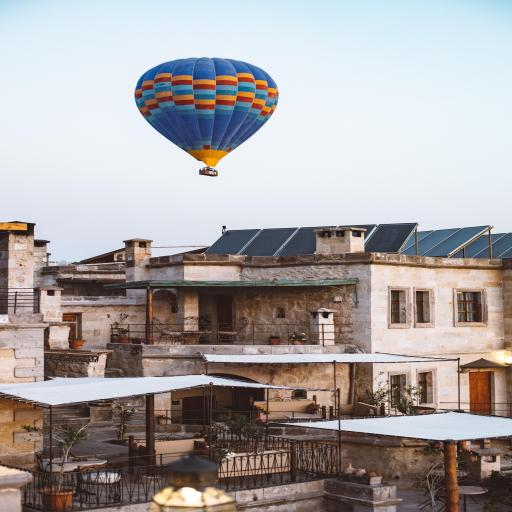hot air ballon: (134, 58, 279, 177)
